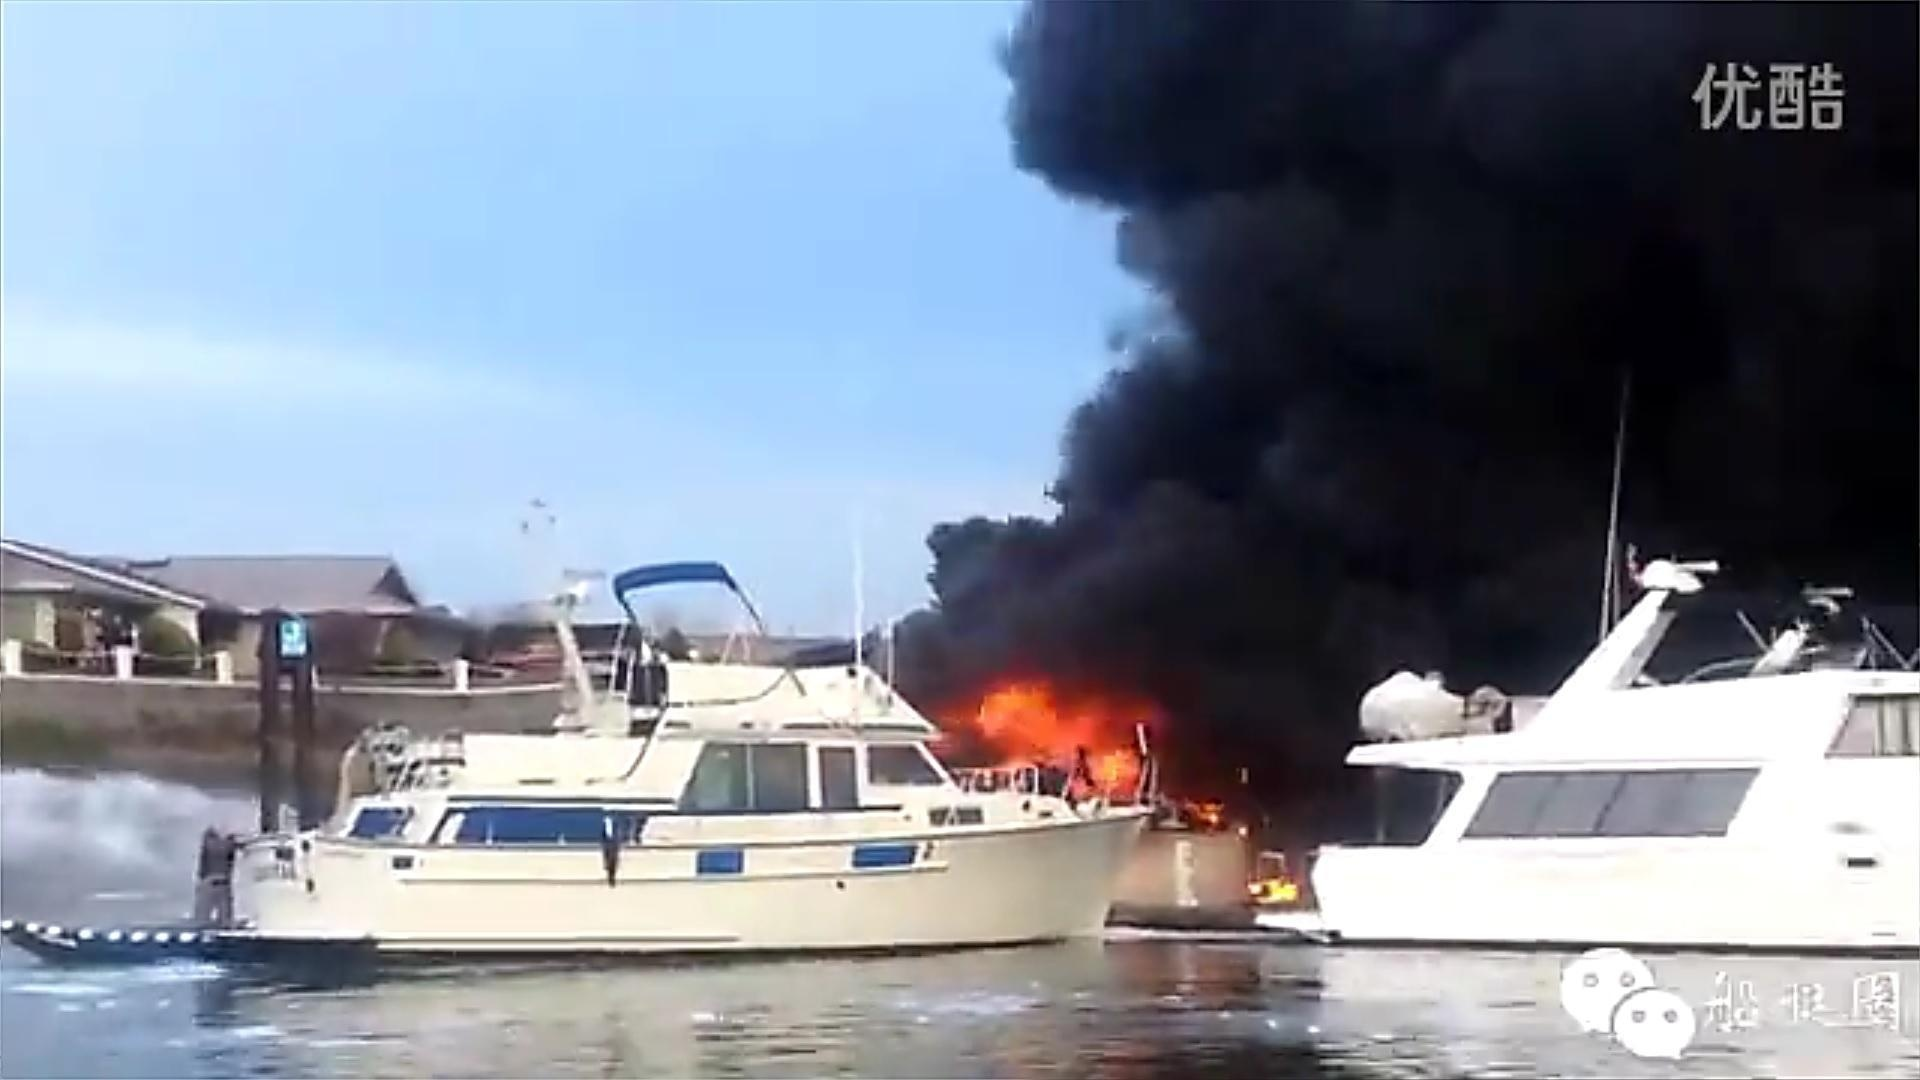fire: (955, 676, 1204, 819)
